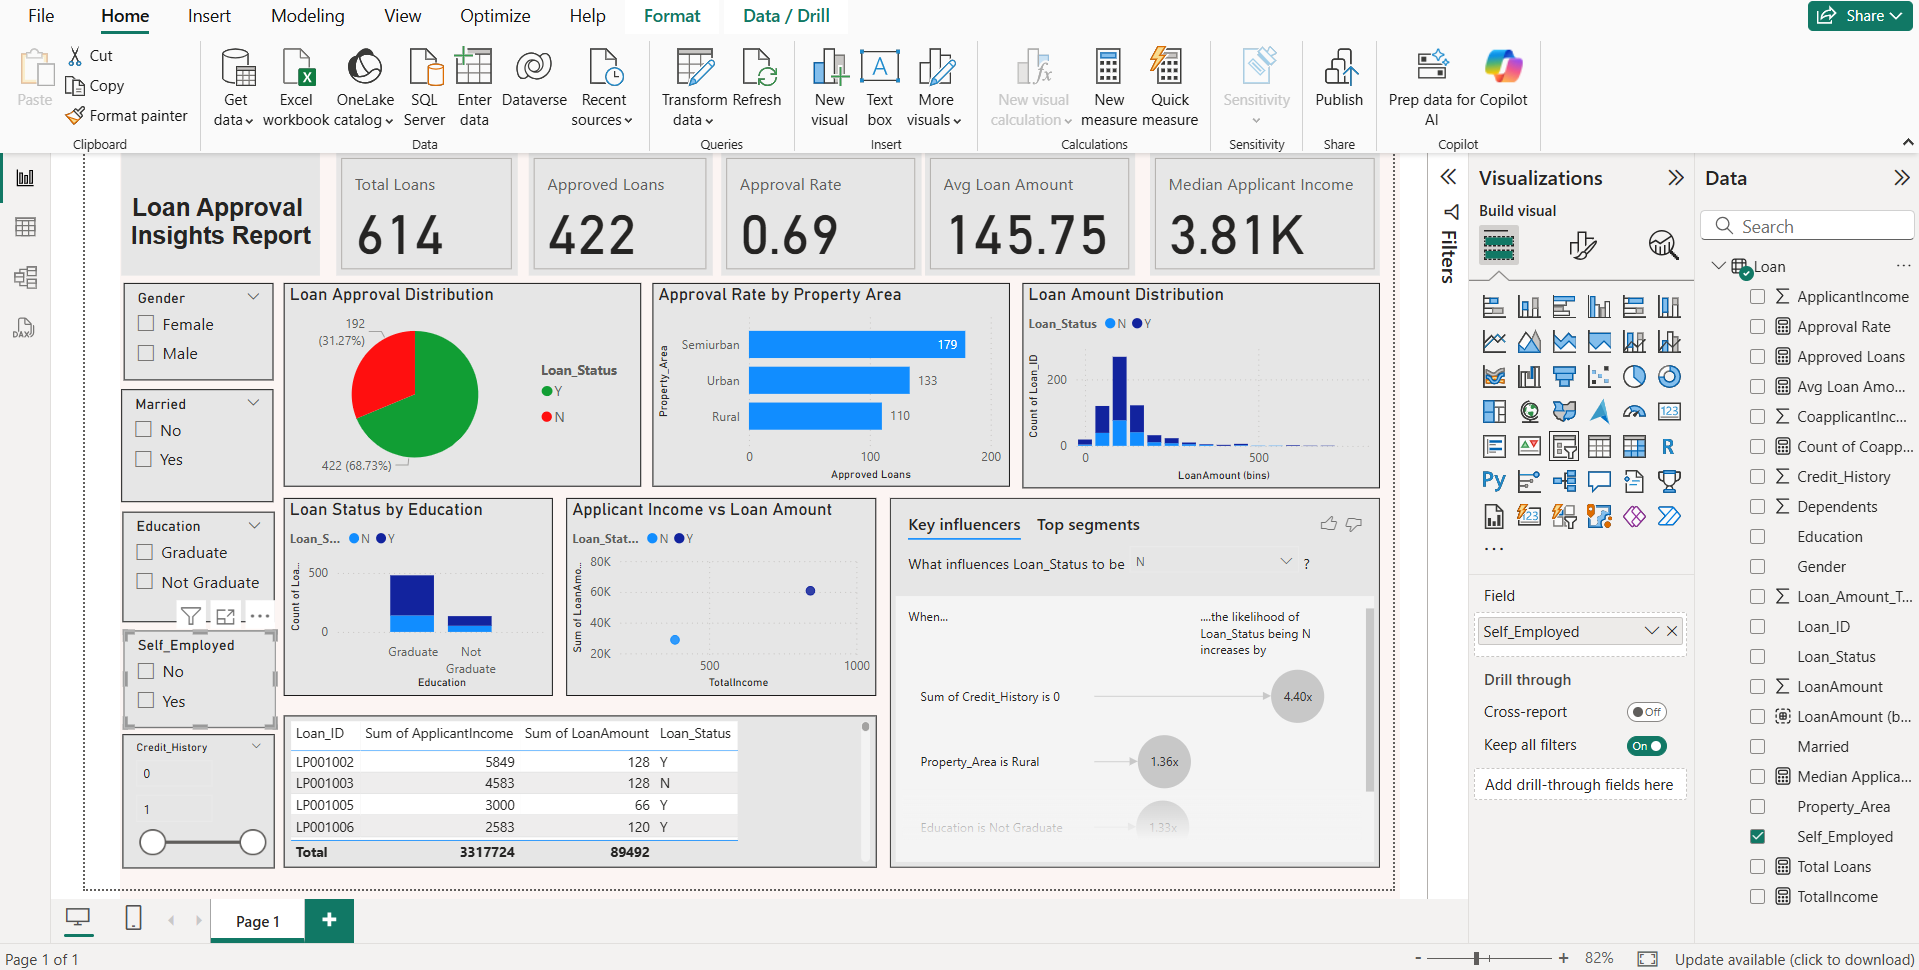

The page's visual inventory and layout, read from the dashboard file:
{"tool":"powerbi","page":{"name":"Page 1","canvas":[1280,720],"ordinal":0},"visuals":[{"type":"cardVisual","fields":{"Data":["Loan.Total Loans"]},"box":[245.8,0,177.3,119.8],"z":0},{"type":"cardVisual","fields":{"Data":["Loan.Approved Loans"]},"box":[434.1,0,179.8,119.8],"z":1000},{"type":"cardVisual","fields":{"Data":["Loan.Approval Rate"]},"box":[622.4,0,195.7,119.8],"z":2000},{"type":"cardVisual","fields":{"Data":["Loan.Avg Loan Amount"]},"box":[821.7,0,205.4,119.8],"z":3000},{"type":"cardVisual","fields":{"Data":["Loan.Median Applicant Income"]},"box":[1041.9,0,225,119.8],"z":4000},{"type":"slicer","fields":{"Values":["Loan.Gender"]},"box":[37.9,127.2,146.7,95.4],"z":5000},{"type":"slicer","fields":{"Values":["Loan.Married"]},"box":[35.5,231.1,149.2,110.1],"z":6000},{"type":"slicer","fields":{"Values":["Loan.Education"]},"box":[36.7,351,149.2,107.6],"z":7000},{"type":"slicer","fields":{"Values":["Loan.Self_Employed"]},"box":[37.9,467.1,149.2,95.4],"z":8000},{"type":"slicer","fields":{"Values":["Loan.Credit_History"]},"box":[36.7,568.6,149.2,130.8],"z":9000},{"type":"pieChart","title":"Loan Approval Distribution","fields":{"Category":["Loan.Loan_Status"],"Y":["CountNonNull(Loan.Loan_ID)"]},"box":[194.4,127.2,349.7,199.3],"z":10000},{"type":"clusteredBarChart","title":"Approval Rate by Property Area","fields":{"Category":["Loan.Property_Area"],"Y":["Loan.Approved Loans"]},"box":[555.2,127.2,349.7,199.3],"z":11000},{"type":"columnChart","title":"Loan Status by Education","fields":{"Category":["Loan.Education"],"Series":["Loan.Loan_Status"],"Y":["CountNonNull(Loan.Loan_ID)"]},"box":[194.4,337.5,262.9,193.2],"z":11001},{"type":"scatterChart","title":"Applicant Income vs Loan Amount","fields":{"X":["Loan.TotalIncome"],"Y":["Sum(Loan.LoanAmount)"],"Series":["Loan.Loan_Status"]},"box":[470.8,337.5,303.3,193.2],"z":11002},{"type":"columnChart","title":"Loan Amount Distribution","fields":{"Category":["Loan.LoanAmount (bins)"],"Y":["CountNonNull(Loan.Loan_ID)"],"Series":["Loan.Loan_Status"]},"box":[917.1,127.2,349.7,200.5],"z":11003},{"type":"keyDriversVisual","fields":{"Target":["Loan.Loan_Status"],"ExplainBy":["Sum(Loan.Credit_History)","Loan.TotalIncome","Loan.Education","Loan.Property_Area","Loan.Gender"]},"box":[787.5,337.5,479.4,362],"z":11004},{"type":"tableEx","fields":{"Values":["Loan.Loan_ID","Sum(Loan.ApplicantIncome)","Sum(Loan.LoanAmount)","Loan.Loan_Status"]},"box":[194.4,550.3,579.6,149.2],"z":11005},{"type":"textbox","box":[35.5,0,194.4,119.8],"z":11006}]}

Visuals, with their boxes on the page's 1280x720 design canvas (x1, y1, x2, y2). These are canvas units, not pixel positions in the 1919x970 screenshot, which may show the page scaled, cropped or inside an application window:
cardVisual - Loan.Total Loans: bbox=[246, 0, 423, 120]
cardVisual - Loan.Approved Loans: bbox=[434, 0, 614, 120]
cardVisual - Loan.Approval Rate: bbox=[622, 0, 818, 120]
cardVisual - Loan.Avg Loan Amount: bbox=[822, 0, 1027, 120]
cardVisual - Loan.Median Applicant Income: bbox=[1042, 0, 1267, 120]
slicer - Loan.Gender: bbox=[38, 127, 185, 223]
slicer - Loan.Married: bbox=[36, 231, 185, 341]
slicer - Loan.Education: bbox=[37, 351, 186, 459]
slicer - Loan.Self_Employed: bbox=[38, 467, 187, 562]
slicer - Loan.Credit_History: bbox=[37, 569, 186, 699]
"Loan Approval Distribution" pieChart: bbox=[194, 127, 544, 326]
"Approval Rate by Property Area" clusteredBarChart: bbox=[555, 127, 905, 326]
"Loan Status by Education" columnChart: bbox=[194, 338, 457, 531]
"Applicant Income vs Loan Amount" scatterChart: bbox=[471, 338, 774, 531]
"Loan Amount Distribution" columnChart: bbox=[917, 127, 1267, 328]
keyDriversVisual - Loan.Loan_Status x Sum(Loan.Credit_History): bbox=[788, 338, 1267, 700]
tableEx - Loan.Loan_ID x Sum(Loan.ApplicantIncome): bbox=[194, 550, 774, 700]
textbox: bbox=[36, 0, 230, 120]
